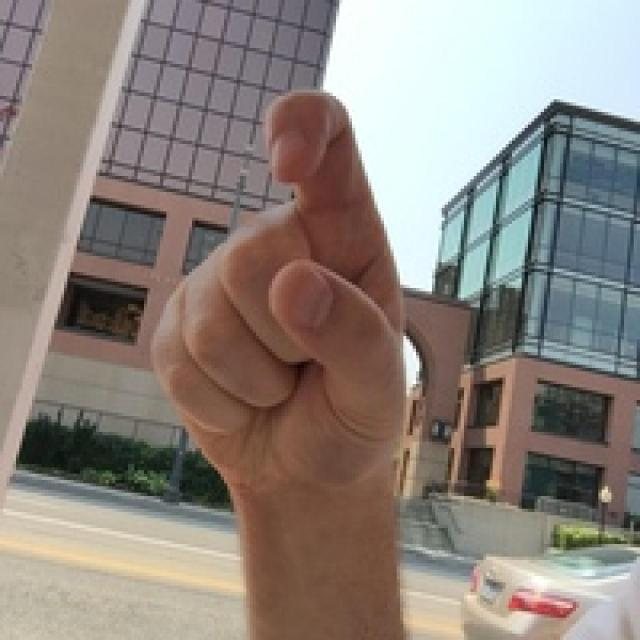X: (64, 67, 542, 534)
